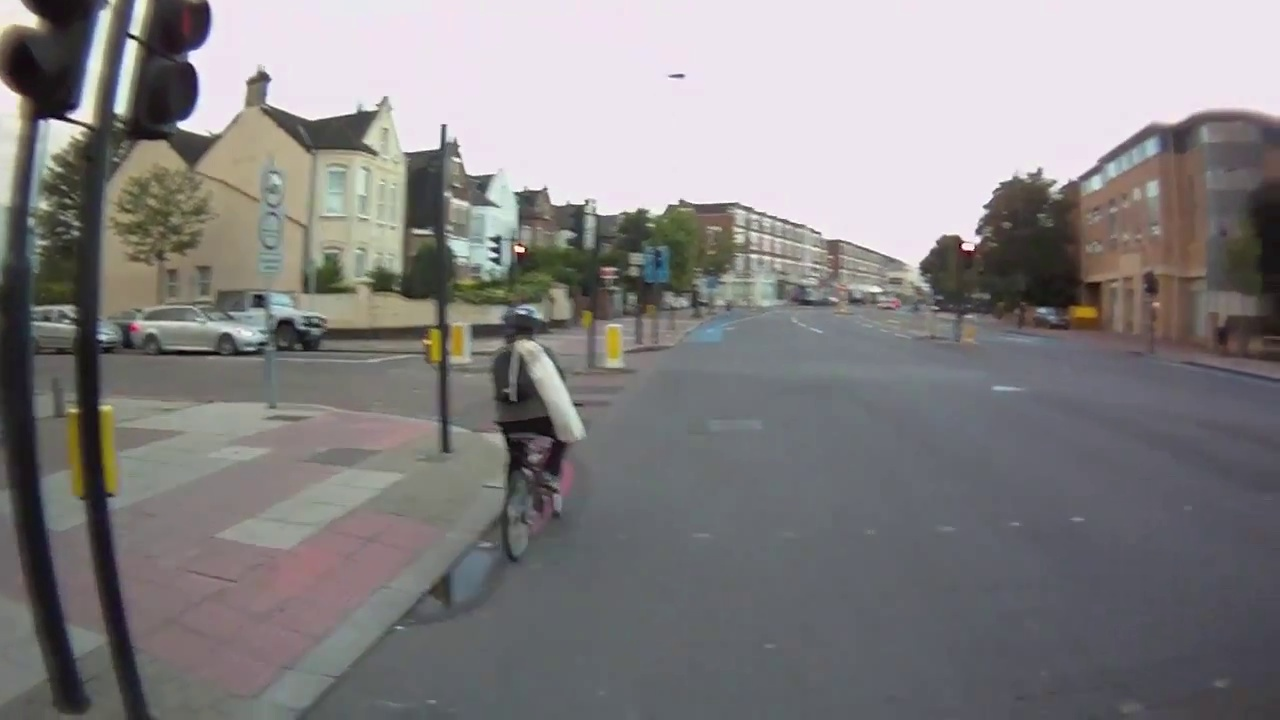cyclist_back: (491, 301, 589, 557)
